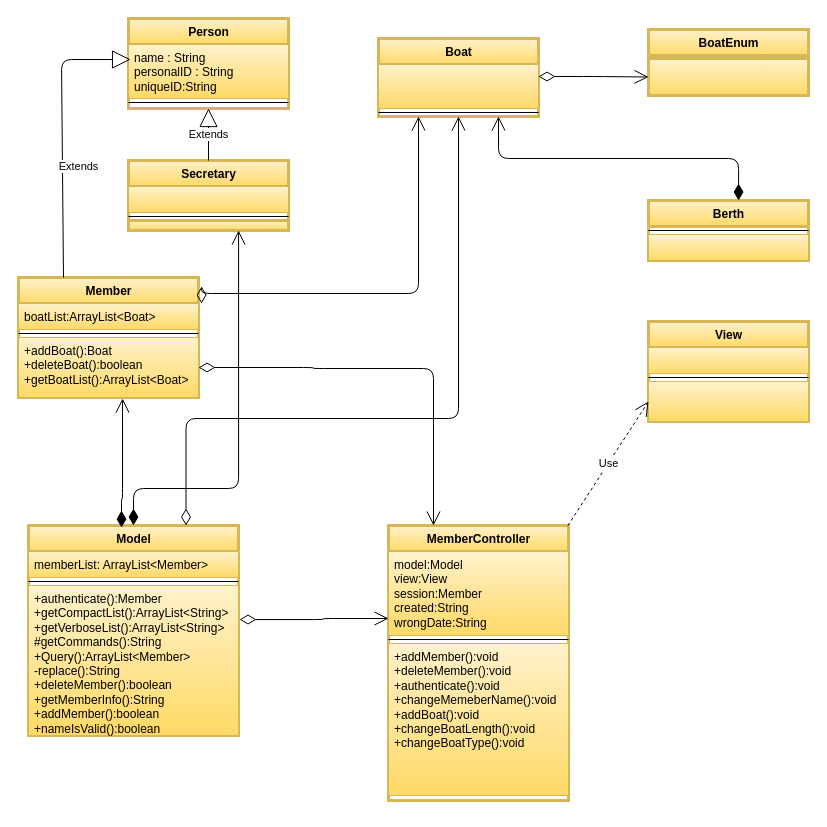
Image size: 827x827. Some labels were removed from this diagram. The shapes that lost their labels are listed below. From the top down, each one's centre as x and y in pixels, then its label:
the point at 458,86: type:BoatEnum length:double
the point at 728,247: boat:Boat
the point at 728,360: scanner:Scanner
the point at 728,401: +print():String -clearScreen():void
